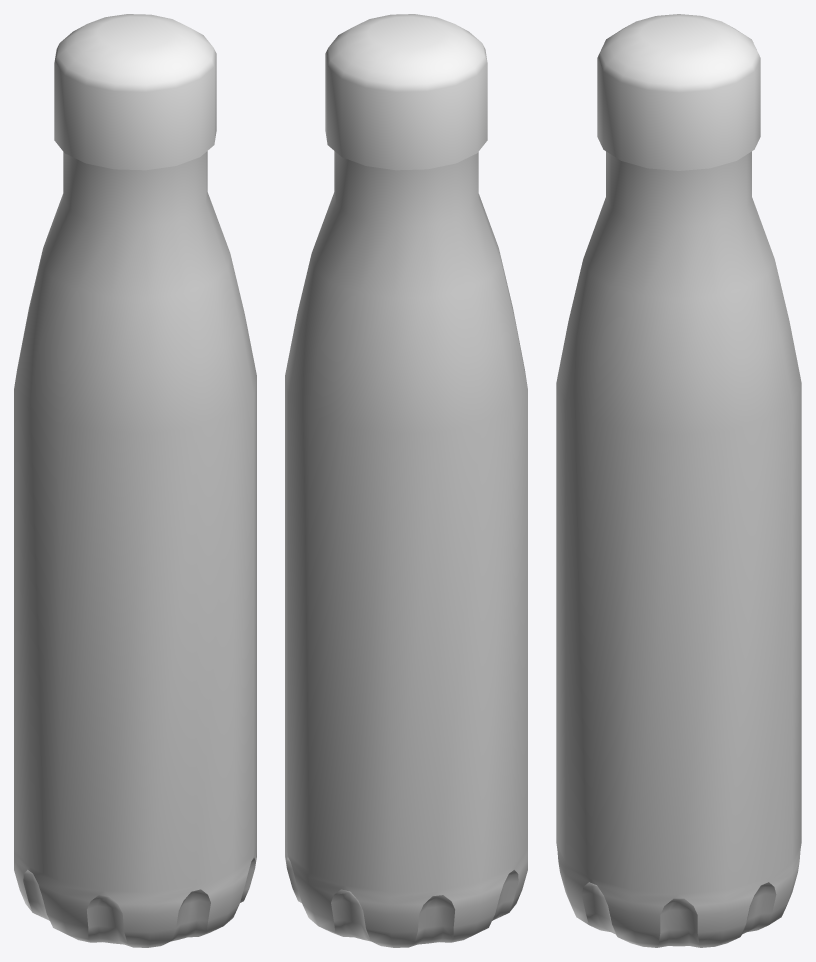
The model's file is WatterBottle.fbx.
3 views of the same model, side by side, from view 1: azimuth 30°, elevation 25°; view 2: azimuth 150°, elevation 25°; view 3: azimuth 270°, elevation 25° (orthographic).
Visible parts, largest first — view 1: Bottle, Cap; view 2: Bottle, Cap; view 3: Bottle, Cap.
Boxes of the visible parts, x1=… form: Bottle: x1=14, y1=151, x2=256, y2=947; Cap: x1=54, y1=14, x2=216, y2=170; Bottle: x1=285, y1=151, x2=527, y2=947; Cap: x1=325, y1=14, x2=487, y2=170; Bottle: x1=556, y1=151, x2=801, y2=947; Cap: x1=597, y1=14, x2=760, y2=170.
Bounding box in the file's own units: 6.26 × 24.68 × 6.26.
Materials: 1 (1 with a texture image).
